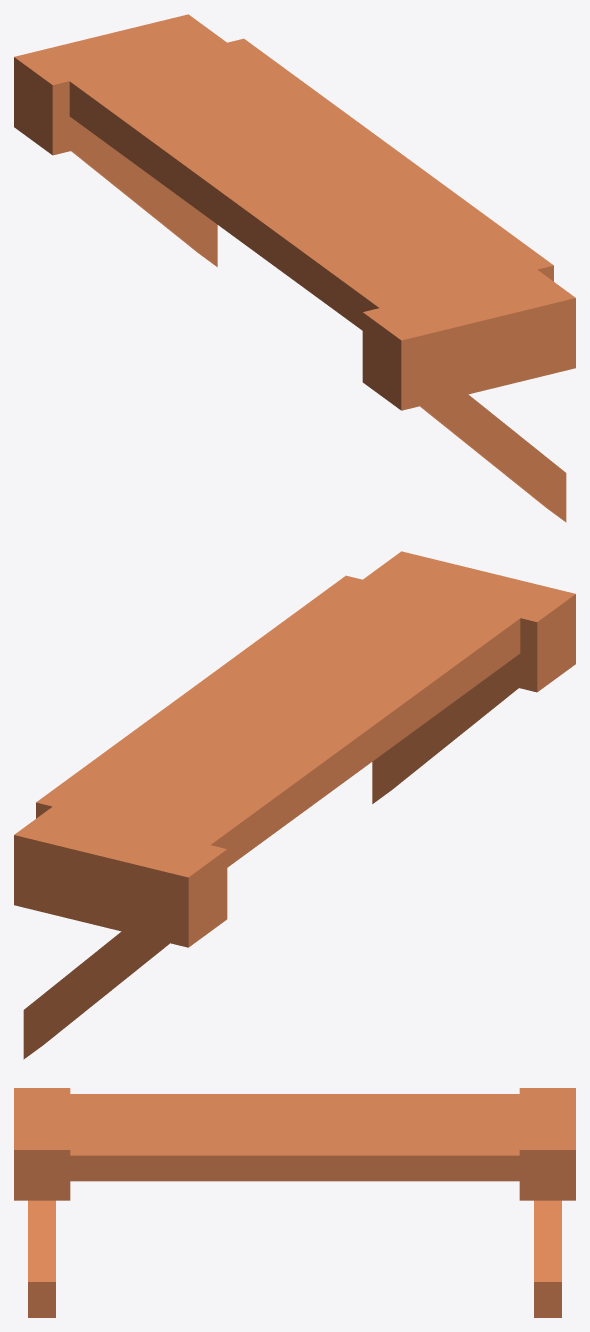
Rendered from overhang.obj.
3 renders of one model, top to bottom at view 1: azimuth 30°, elevation 25°; view 2: azimuth 150°, elevation 25°; view 3: azimuth 270°, elevation 25°, orthographic. The views are drawn at different scales.
Visible parts, largest first — view 1: overhang; view 2: overhang; view 3: overhang.
Part boxes in pixels (x1,y1,x2,y2): overhang: (14, 14, 575, 522); overhang: (14, 551, 575, 1059); overhang: (14, 1088, 575, 1317).
Size of the model in its own units: 0.285 by 0.33 by 1.
